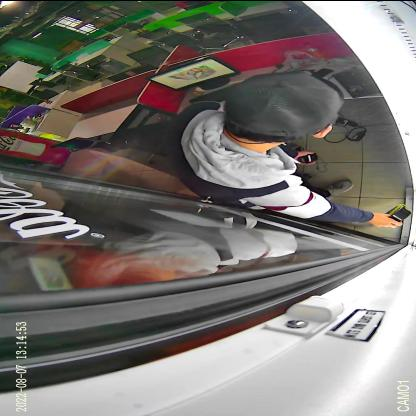yellow: (384, 203, 412, 221)
